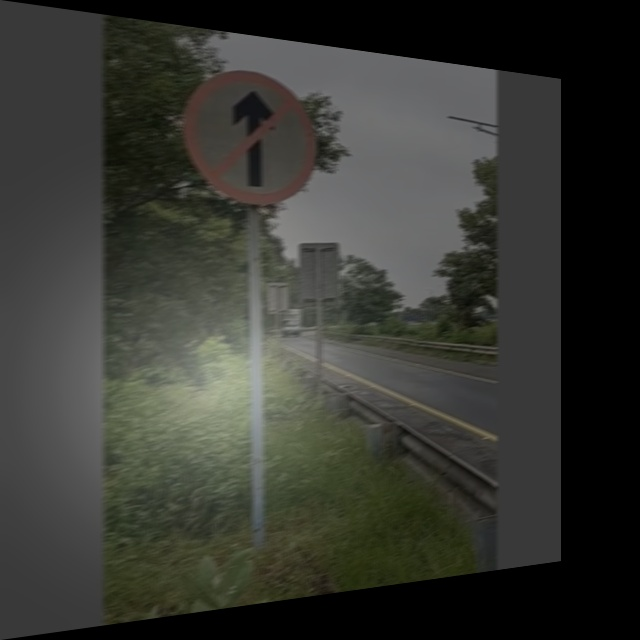No_Entry: (180, 65, 319, 205)
